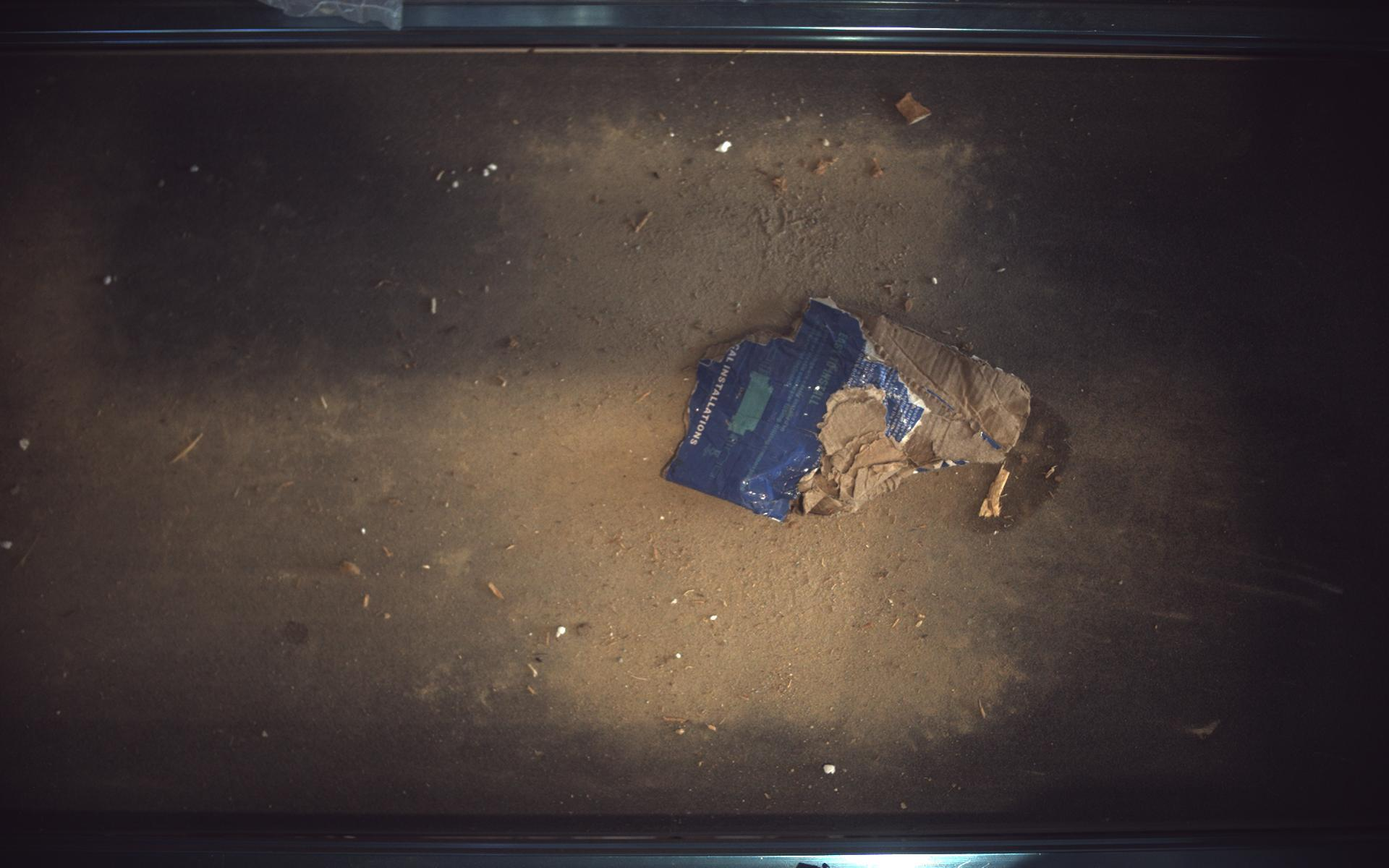general_w: (666, 299, 1033, 520)
